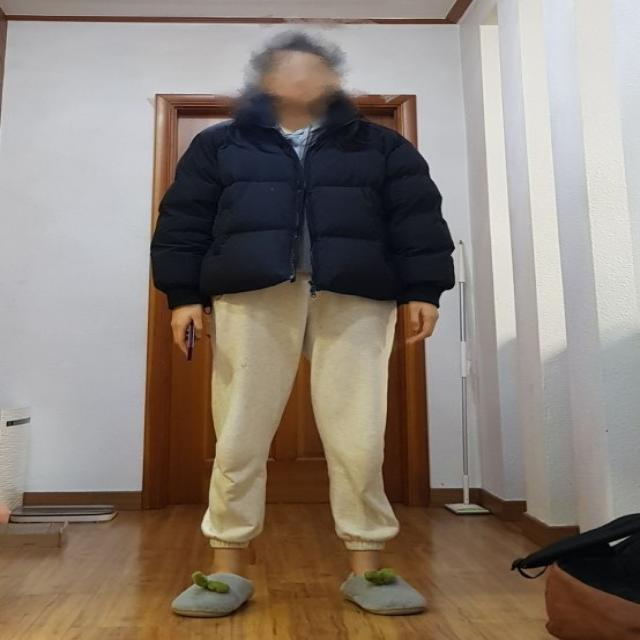padding: (150, 102, 454, 310)
trainingpants: (204, 288, 397, 550)
